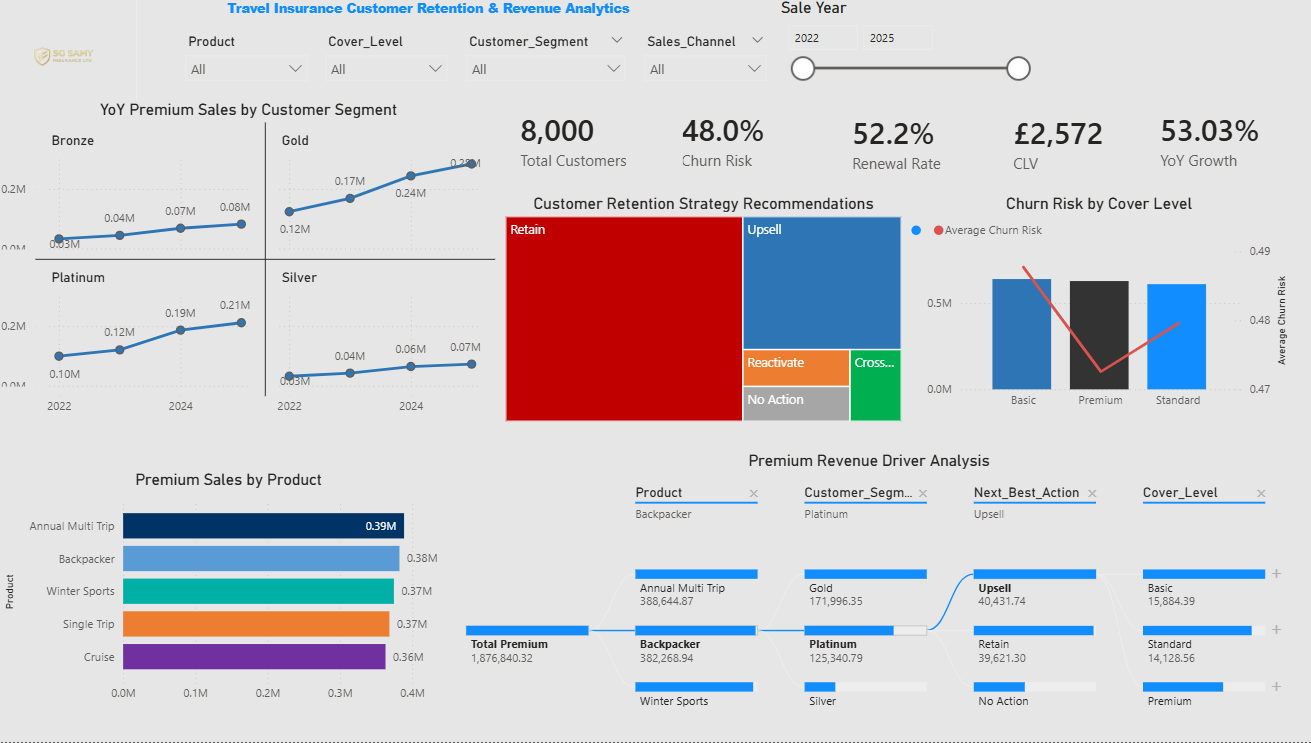

What the dashboard file says about the page in this screenshot:
{"tool":"powerbi","page":{"name":"Page 1","canvas":[1400,800],"ordinal":0},"visuals":[{"type":"cardVisual","fields":{"Data":["travel_insurance_enriched.Average Renewal Probability %"]},"box":[881.9,110.6,171.3,102.1],"z":0},{"type":"slicer","fields":{"Values":["travel_insurance_enriched.Product"]},"box":[191.3,41.7,149.6,65.1],"z":1000},{"type":"cardVisual","fields":{"Data":["travel_insurance_enriched.Average Churn Risk %"]},"box":[700,107.4,189.4,101.1],"z":2000},{"type":"cardVisual","fields":{"Data":["travel_insurance_enriched.Average CLV Display"]},"box":[1053.2,106.4,156.4,110.6],"z":3000},{"type":"slicer","fields":{"Values":["travel_insurance_enriched.Cover_Level"]},"box":[340.9,41.7,149.6,65.1],"z":4000},{"type":"slicer","fields":{"Values":["travel_insurance_enriched.Customer_Segment"]},"box":[490.4,41.7,189.3,65.1],"z":5000},{"type":"slicer","fields":{"Values":["travel_insurance_enriched.Sales_Channel"]},"box":[679.7,41.7,149.6,65.1],"z":6000},{"type":"image","box":[0,0,149.6,147.5],"z":7000},{"type":"lineChart","title":"YoY Premium Sales by Customer Segment","fields":{"Category":["DateTable.Year"],"Y":["travel_insurance_enriched.Total Sales"],"Rows":["travel_insurance_enriched.Customer_Segment"]},"box":[0,117,537.2,358.5],"z":8000},{"type":"cardVisual","fields":{"Data":["travel_insurance_enriched.YoY Growth %"]},"box":[1209.6,107.4,177.7,101.1],"z":9000},{"type":"slicer","title":"Sale Year","fields":{"Values":["DateTable.Year"]},"box":[829.8,8.5,278.7,102.1],"z":10000},{"type":"clusteredBarChart","title":"Premium Sales by Product","fields":{"Category":["travel_insurance_enriched.Product"],"Y":["Sum(travel_insurance_enriched.Premium_GBP)"]},"box":[4.3,510.6,486.2,264.9],"z":11000},{"type":"lineStackedColumnComboChart","title":"Churn Risk by Cover Level","fields":{"Category":["travel_insurance_enriched.Cover_Level"],"Y":["travel_insurance_enriched.Total Premium"],"Y2":["travel_insurance_enriched.Average Churn Risk"]},"box":[968.1,217,410.6,246.8],"z":12000},{"type":"treemap","title":"Customer Retention Strategy Recommendations","fields":{"Values":["travel_insurance_enriched.High Risk Customers"],"Group":["travel_insurance_enriched.Next_Best_Action"]},"box":[537.2,217,430.9,246.8],"z":13000},{"type":"decompositionTreeVisual","title":"Premium Revenue Driver Analysis","fields":{"Analyze":["travel_insurance_enriched.Total Premium"],"ExplainBy":["travel_insurance_enriched.Product","travel_insurance_enriched.Customer_Segment","travel_insurance_enriched.Next_Best_Action","travel_insurance_enriched.Cover_Level","travel_insurance_enriched.Sales_Channel","travel_insurance_enriched.Region"]},"box":[470.2,490.4,917,276.6],"z":14000},{"type":"cardVisual","fields":{"Data":["travel_insurance_enriched.Total Customers Display"]},"box":[528.7,107.4,202.1,101.1],"z":15000},{"type":"textbox","box":[166,4,588,31],"z":16000}]}

Visuals, with their boxes in screenshot pixels (x1, y1, x2, y2), scaled from the page's 1400x800 canvas onto the 1311x743 screenshot:
cardVisual - travel_insurance_enriched.Average Renewal Probability %: l=826, t=103, r=986, b=198
slicer - travel_insurance_enriched.Product: l=179, t=39, r=319, b=99
cardVisual - travel_insurance_enriched.Average Churn Risk %: l=656, t=100, r=833, b=194
cardVisual - travel_insurance_enriched.Average CLV Display: l=986, t=99, r=1133, b=202
slicer - travel_insurance_enriched.Cover_Level: l=319, t=39, r=459, b=99
slicer - travel_insurance_enriched.Customer_Segment: l=459, t=39, r=636, b=99
slicer - travel_insurance_enriched.Sales_Channel: l=636, t=39, r=777, b=99
image: l=0, t=0, r=140, b=137
"YoY Premium Sales by Customer Segment" lineChart: l=0, t=109, r=503, b=442
cardVisual - travel_insurance_enriched.YoY Growth %: l=1133, t=100, r=1299, b=194
"Sale Year" slicer: l=777, t=8, r=1038, b=103
"Premium Sales by Product" clusteredBarChart: l=4, t=474, r=459, b=720
"Churn Risk by Cover Level" lineStackedColumnComboChart: l=907, t=202, r=1291, b=431
"Customer Retention Strategy Recommendations" treemap: l=503, t=202, r=907, b=431
"Premium Revenue Driver Analysis" decompositionTreeVisual: l=440, t=455, r=1299, b=712
cardVisual - travel_insurance_enriched.Total Customers Display: l=495, t=100, r=684, b=194
textbox: l=155, t=4, r=706, b=33
